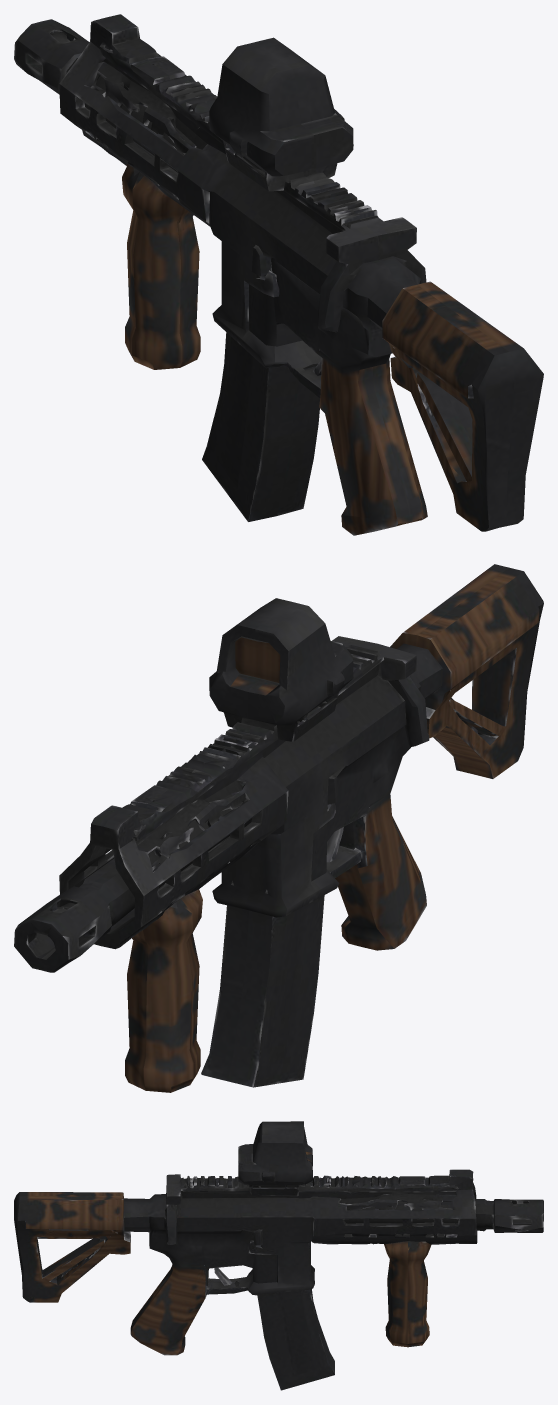
Rendered from burst_rifle.glb.
The picture shows the model from 3 angles, top to bottom: view 1: azimuth 30°, elevation 25°; view 2: azimuth 150°, elevation 25°; view 3: azimuth 270°, elevation 25°; orthographic projection. The views are drawn at different scales.
Parts seen in each view (by area): view 1: burst_rifle_world; view 2: burst_rifle_world; view 3: burst_rifle_world.
Boxes of the visible parts, <box> form: burst_rifle_world: <box>14,14,543,535</box>; burst_rifle_world: <box>14,564,543,1092</box>; burst_rifle_world: <box>14,1121,543,1390</box>.
Bounding box in the file's own units: 0.1084 × 0.4294 × 0.8032.
Materials: 1 (1 with a texture image).
